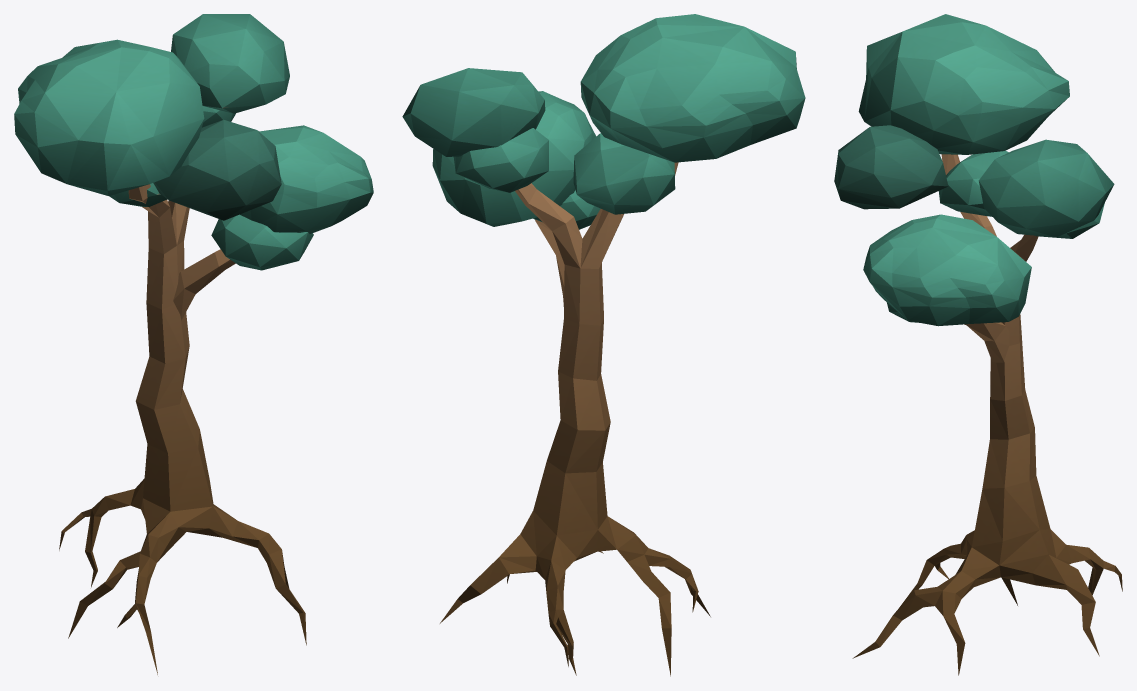
File: ZLP_Plant_D_2.FBX
3 views of the same model, side by side, from view 1: azimuth 30°, elevation 25°; view 2: azimuth 150°, elevation 25°; view 3: azimuth 270°, elevation 25° (orthographic). The views are drawn at different scales.
Visible parts, largest first — view 1: ZLP_Plant_D_2; view 2: ZLP_Plant_D_2; view 3: ZLP_Plant_D_2.
Part boxes in pixels (x1,y1,x2,y2): ZLP_Plant_D_2: (14,14,373,674); ZLP_Plant_D_2: (402,14,805,676); ZLP_Plant_D_2: (834,14,1122,675).
Size of the model in its own units: 580 by 993 by 451.
